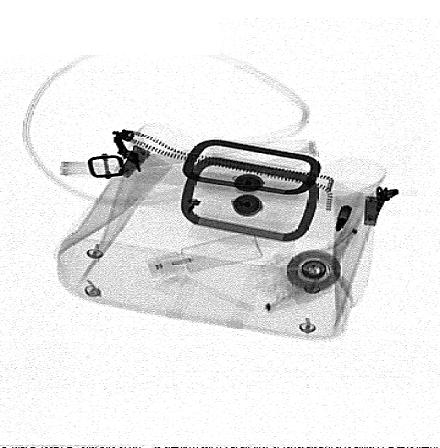Bullet: (335, 203, 354, 232)
